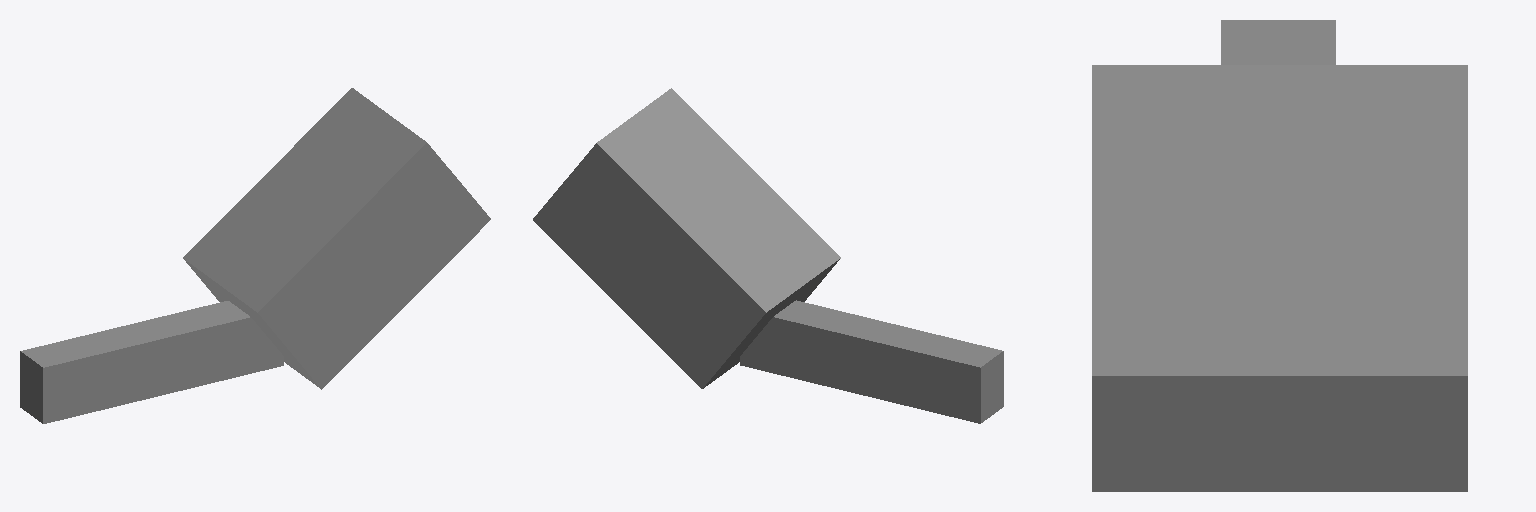
The robot description file, URDF, robot "kangaroo_trunk":
<?xml version="1.0"?>
<robot name="kangaroo_trunk">
  <material name="Gray"> <!-- for ROMs -->
    <color rgba="0.6 0.6 0.6 0.4"/>
  </material>
  <material name="Green">
    <color rgba="0 1 0 1"/>
  </material>

  <link name="base_link"/>
  <joint name="base_link_J" type="fixed">
      <parent link="base_link"/>
      <child link="Pelvis"/>
      <origin rpy="0 0 0" xyz="0 0 0"/>
   </joint>

  <link name="virtualPelvis"/> <!-- for Blender Armature export -->
  <joint name="virtualPelvis" type="fixed">
      <parent link="base_link"/>
      <child link="virtualPelvis"/>
      <origin rpy="0 0 0" xyz="0 0 0"/>
  </joint>

  <link name="Pelvis">
      <inertial>
         <origin rpy="0 0 0" xyz="0 0 0"/>
         <mass value="1"/>
         <inertia ixx="0" ixy="0" ixz="0" iyy="0" iyz="0" izz="0"/>
      </inertial>
      <visual>
         <origin xyz="0 0 0" rpy="0 0 0"/>
         <geometry>
            <mesh filename="package://hpp-rbprm-corba/meshes/kangaroo/Pelvis_view.dae"/>
         </geometry>
		 <material name="Gray"/>
      </visual>
      <collision>
         <origin xyz="0 0 0" rpy="0 0 0"/>
         <geometry>
            <mesh filename="package://hpp-rbprm-corba/meshes/kangaroo/Pelvis_box.stl"/>
         </geometry>
      </collision>
   </link>  

   <!--<joint name="pelvis_lfoot_rom_joint" type="fixed">
      <parent link="Pelvis"/>
      <child link="lfoot_rom"/>
      <origin rpy="0 0 0" xyz="0 0 0"/>
   </joint>

  <link name="lfoot_rom">
      <visual>
         <origin xyz="0 0 0" rpy="0 0 0"/>
         <geometry>
            <mesh filename="package://hpp-rbprm-corba/meshes/kangaroo/lfoot_rom.stl"/>
         </geometry>
      </visual>
   </link>

   <joint name="pelvis_rfoot_rom_joint" type="fixed">
      <parent link="Pelvis"/>
      <child link="rfoot_rom"/>
      <origin rpy="0 0 0" xyz="0 0 0"/>
   </joint>

  <link name="rfoot_rom">
      <visual>
         <origin xyz="0 0 0" rpy="0 0 0"/>
         <geometry>
            <mesh filename="package://hpp-rbprm-corba/meshes/kangaroo/rfoot_rom.stl"/>
         </geometry>
      </visual>
   </link>-->

  <link name="Torso_rx"/>
  <link name="Torso_ry"/>  
  <link name="Torso">
      <inertial>
         <origin rpy="0 0 0" xyz="0 0 0"/>
         <mass value="1"/>
         <inertia ixx="0" ixy="0" ixz="0" iyy="0" iyz="0" izz="0"/>
      </inertial>
      <visual>
         <origin xyz="0 0 0" rpy="0 0 0"/>
         <geometry>
            <mesh filename="package://hpp-rbprm-corba/meshes/kangaroo/Torso_view.dae"/>
         </geometry>
		 <material name="Gray"/>
      </visual>
      <collision>
         <origin xyz="0 0 0" rpy="0 0 0"/>
         <geometry>
            <mesh filename="package://hpp-rbprm-corba/meshes/kangaroo/Torso_box.stl"/>
         </geometry>
      </collision>
   </link>
   
   <link name="Head_rx"/>
   <link name="Head_ry"/>
   <link name="Head">
      <inertial>
         <origin rpy="0 0 0" xyz="0 0 0"/>
         <mass value="0"/>
         <inertia ixx="0" ixy="0" ixz="0" iyy="0" iyz="0" izz="0"/>
      </inertial>
      <visual>
         <origin xyz="0 0 0" rpy="0 0 0"/>
         <geometry>
            <mesh filename="package://hpp-rbprm-corba/meshes/kangaroo/Head_box.stl"/>
         </geometry>
		 <material name="Gray"/>
      </visual>
      <collision>
         <origin xyz="0 0 0" rpy="0 0 0"/>
         <geometry>
            <mesh filename="package://hpp-rbprm-corba/meshes/kangaroo/Head_box.stl"/>
         </geometry>
      </collision>
   </link>

   <link name="Tailbase_rx"/>
   <link name="Tailbase_ry"/>
   <link name="Tailbase">
      <inertial>
         <origin rpy="0 0 0" xyz="0 0 0"/>
         <mass value="0"/>
         <inertia ixx="0" ixy="0" ixz="0" iyy="0" iyz="0" izz="0"/>
      </inertial>
      <visual>
         <origin xyz="0 0 0" rpy="0 0 0"/>
         <geometry>
            <mesh filename="package://hpp-rbprm-corba/meshes/kangaroo/Tailbase_box.stl"/>
         </geometry>
		 <material name="Gray"/>
      </visual>
      <collision>
         <origin xyz="0 0 0" rpy="0 0 0"/>
         <geometry>
            <mesh filename="package://hpp-rbprm-corba/meshes/kangaroo/Tailbase_box.stl"/>
         </geometry>
      </collision>
   </link>

   <link name="Tail_rx"/>
   <link name="Tail_ry"/>
   <link name="Tail">
      <inertial>
         <origin rpy="0 0 0" xyz="0 0 0"/>
         <mass value="0"/>
         <inertia ixx="0" ixy="0" ixz="0" iyy="0" iyz="0" izz="0"/>
      </inertial>
      <visual>
         <origin xyz="0 0 0" rpy="0 0 0"/>
         <geometry>
            <mesh filename="package://hpp-rbprm-corba/meshes/kangaroo/Tail_box.stl"/>
         </geometry>
		 <material name="Gray"/>
      </visual>
      <collision>
         <origin xyz="0 0 0" rpy="0 0 0"/>
         <geometry>
            <mesh filename="package://hpp-rbprm-corba/meshes/kangaroo/Tail_box.stl"/>
         </geometry>
      </collision>
   </link>

  <!-- JOINTS -->
  <joint name="A_Torso_rx" type="revolute"> <!-- "A_" to put trunk joints before limb joints in joint chain built by ROS URDF parser -->
      <parent link="Pelvis"/>
      <child link="Torso_rx"/>
      <origin rpy="0 0 0" xyz="0.007 0.0012 0.0982"/>
      <axis xyz="1 0 0"/>
      <limit effort="0" lower="-0.1" upper="0.1" velocity="1.0"/>
   </joint>
   <joint name="Torso_ry" type="revolute">
      <parent link="Torso_rx"/>
      <child link="Torso_ry"/>
      <origin rpy="0 0 0" xyz="0 0 0"/>
      <axis xyz="0 1 0"/>
      <limit effort="0" lower="-0.4" upper="0.7" velocity="1.0"/>
   </joint>
   <joint name="Torso_rz" type="revolute">
      <parent link="Torso_ry"/>
      <child link="Torso"/>
      <origin rpy="0 0 0" xyz="0 0 0"/>
      <axis xyz="0 0 1"/>
      <limit effort="0" lower="-0.3" upper="0.3" velocity="1.0"/>
   </joint>
  <joint name="Head_rx" type="revolute">
      <parent link="Torso"/>
      <child link="Head_rx"/>
      <origin rpy="0 0 0" xyz="0.2629 -0.0018 0.299"/>
      <axis xyz="1 0 0"/>
      <limit effort="0" lower="-0.1" upper="0.1" velocity="1.0"/>
   </joint>
   <joint name="Head_ry" type="revolute">
      <parent link="Head_rx"/>
      <child link="Head_ry"/>
      <origin rpy="0 0 0" xyz="0 0 0"/>
      <axis xyz="0 1 0"/>
      <limit effort="0" lower="-0.3" upper="0.3" velocity="1.0"/>
   </joint>
   <joint name="Head_rz" type="revolute">
      <parent link="Head_ry"/>
      <child link="Head"/>
      <origin rpy="0 0 0" xyz="0 0 0"/>
      <axis xyz="0 0 1"/>
      <limit effort="0" lower="-0.4" upper="0.4" velocity="1.0"/>
   </joint>
  <joint name="A_Tailbase_rx" type="revolute"> <!-- "A_" to put trunk joints before limb joints in joint chain built by ROS URDF parser -->
      <parent link="Pelvis"/>
      <child link="Tailbase_rx"/>
      <origin rpy="0 0 0" xyz="-0.0982 -0.001 -0.1713"/>
      <axis xyz="1 0 0"/>
      <limit effort="0" lower="-0.2" upper="0.2" velocity="1.0"/>
   </joint>
   <joint name="Tailbase_ry" type="revolute">
      <parent link="Tailbase_rx"/>
      <child link="Tailbase_ry"/>
      <origin rpy="0 0 0" xyz="0 0 0"/>
      <axis xyz="0 1 0"/>
      <limit effort="0" lower="-0.2" upper="0.5" velocity="1.0"/>
   </joint>
   <joint name="Tailbase_rz" type="revolute">
      <parent link="Tailbase_ry"/>
      <child link="Tailbase"/>
      <origin rpy="0 0 0" xyz="0 0 0"/>
      <axis xyz="0 0 1"/>
      <limit effort="0" lower="-0.2" upper="0.2" velocity="1.0"/>
   </joint>
  <joint name="Tail_rx" type="revolute">
      <parent link="Tailbase"/>
      <child link="Tail_rx"/>
      <origin rpy="0 0 0" xyz="-0.2284 0.0005 -0.2151"/>
      <axis xyz="1 0 0"/>
      <limit effort="0" lower="-0.2" upper="0.2" velocity="1.0"/>
   </joint>
   <joint name="Tail_ry" type="revolute">
      <parent link="Tail_rx"/>
      <child link="Tail_ry"/>
      <origin rpy="0 0 0" xyz="0 0 0"/>
      <axis xyz="0 1 0"/>
      <limit effort="0" lower="-0.2" upper="0.5" velocity="1.0"/>
   </joint>
   <joint name="Tail_rz" type="revolute">
      <parent link="Tail_ry"/>
      <child link="Tail"/>
      <origin rpy="0 0 0" xyz="0 0 0"/>
      <axis xyz="0 0 1"/>
      <limit effort="0" lower="-0.2" upper="0.2" velocity="1.0"/>
   </joint>
</robot>

--- Render facts (derived) ---
Views: 3 orthographic renders of the robot side by side, from view 1: azimuth 30°, elevation 25°; view 2: azimuth 150°, elevation 25°; view 3: azimuth 270°, elevation 25°.
Robot: kangaroo_trunk — 15 links, 14 joints (12 revolute, 2 fixed); root link base_link; default pose: all joints at 0.
Visible links, largest first — view 1: Tailbase, Tail; view 2: Tailbase, Tail; view 3: Tailbase, Tail.
Boxes of the visible links, x1,y1,x2,y2 form: Tailbase: [183, 88, 490, 389]; Tail: [20, 301, 283, 423]; Tailbase: [533, 88, 840, 388]; Tail: [740, 300, 1003, 423]; Tailbase: [1092, 65, 1467, 491]; Tail: [1221, 20, 1335, 64].
Size in the robot's own frame: 0.7182 by 0.2212 by 0.36 metres.
2 mesh visuals loaded from 5 distinct referenced files (2 binary STL); not drawn: 3 (reference not matched to a file when rendering).